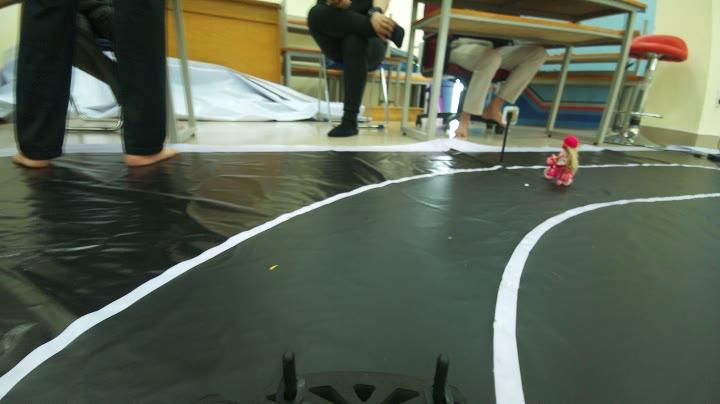pedestrian: (546, 130, 581, 195)
